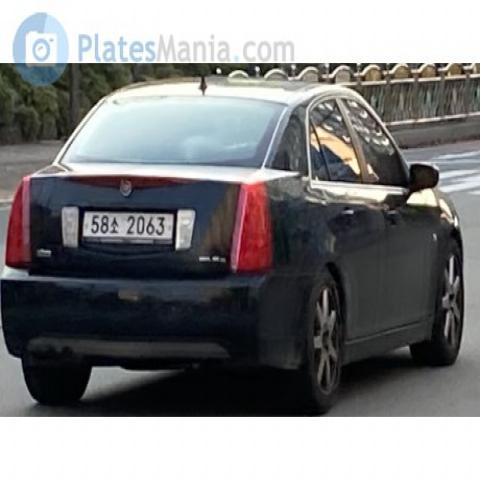LP: (78, 204, 182, 246)
